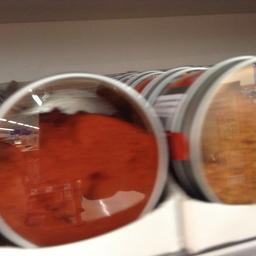spices: (0, 71, 168, 248), (178, 54, 255, 204)
